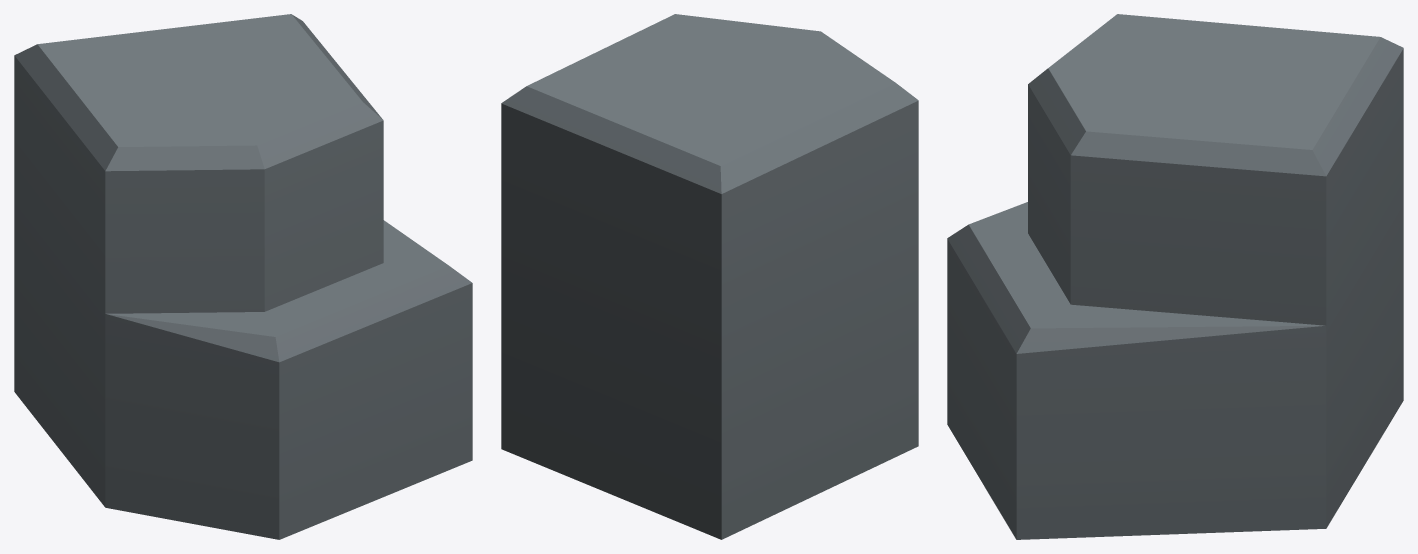
File: kf_rock_1_c.fbx
3 renders of one model, left to right at view 1: azimuth 30°, elevation 25°; view 2: azimuth 150°, elevation 25°; view 3: azimuth 270°, elevation 25°, orthographic. The views are drawn at different scales.
Parts seen in each view (by area): view 1: kf_rock_1_c; view 2: kf_rock_1_c; view 3: kf_rock_1_c.
Part boxes in pixels (left/top/right/bottom): kf_rock_1_c: left=14, top=14, right=472, bottom=539; kf_rock_1_c: left=501, top=14, right=918, bottom=539; kf_rock_1_c: left=947, top=14, right=1403, bottom=539.
Size of the model in its own units: 1.25 by 1.3 by 1.45.
1 material, 1 textured.
